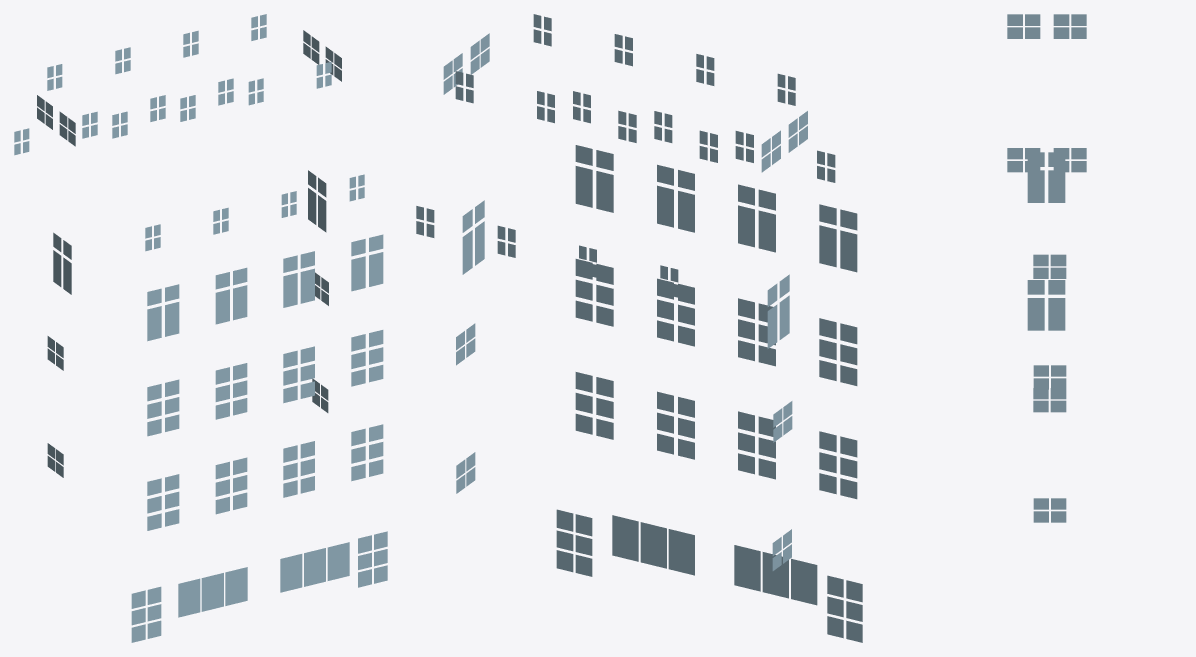
Rendered from FairyTale43.gltf.
3 views of the same model, side by side, from view 1: azimuth 30°, elevation 25°; view 2: azimuth 150°, elevation 25°; view 3: azimuth 270°, elevation 25° (orthographic). The views are drawn at different scales.
Parts seen in each view (by area): view 1: HouseMD05_Glass; view 2: HouseMD05_Glass; view 3: HouseMD05_Glass.
Part boxes in pixels (x1,y1,x2,y2): HouseMD05_Glass: (14, 14, 387, 642); HouseMD05_Glass: (416, 14, 862, 642); HouseMD05_Glass: (1007, 14, 1086, 522).
Bounding box in the file's own units: 9.76 × 17.37 × 8.98.
